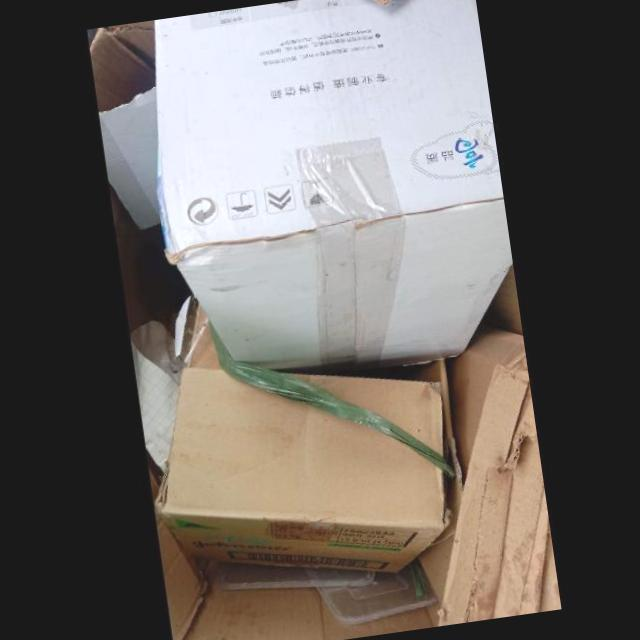carton: (154, 0, 515, 373), (155, 326, 454, 571), (419, 329, 564, 627), (90, 20, 161, 229)
hop_nhua: (316, 557, 439, 624), (220, 562, 377, 590)
